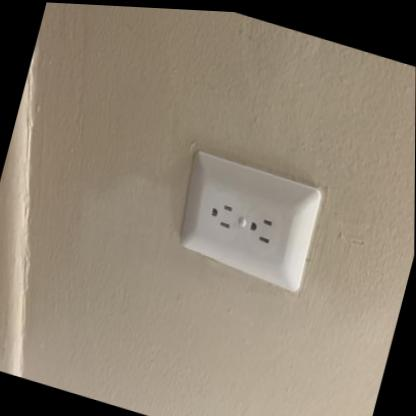OUTLET: (164, 140, 329, 298)
